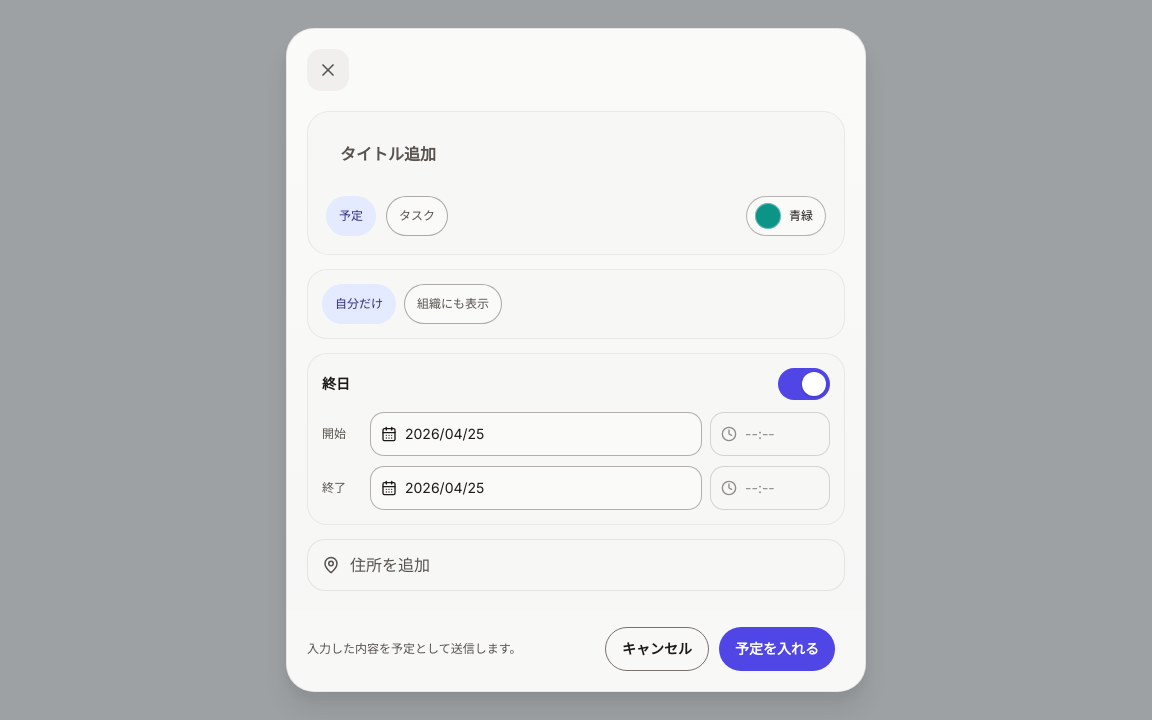
Test case: CalendarScheduleModal › shows contextual chips for the selected time part
Click the switch: {"x": 804, "y": 384} [778,368,830,400]
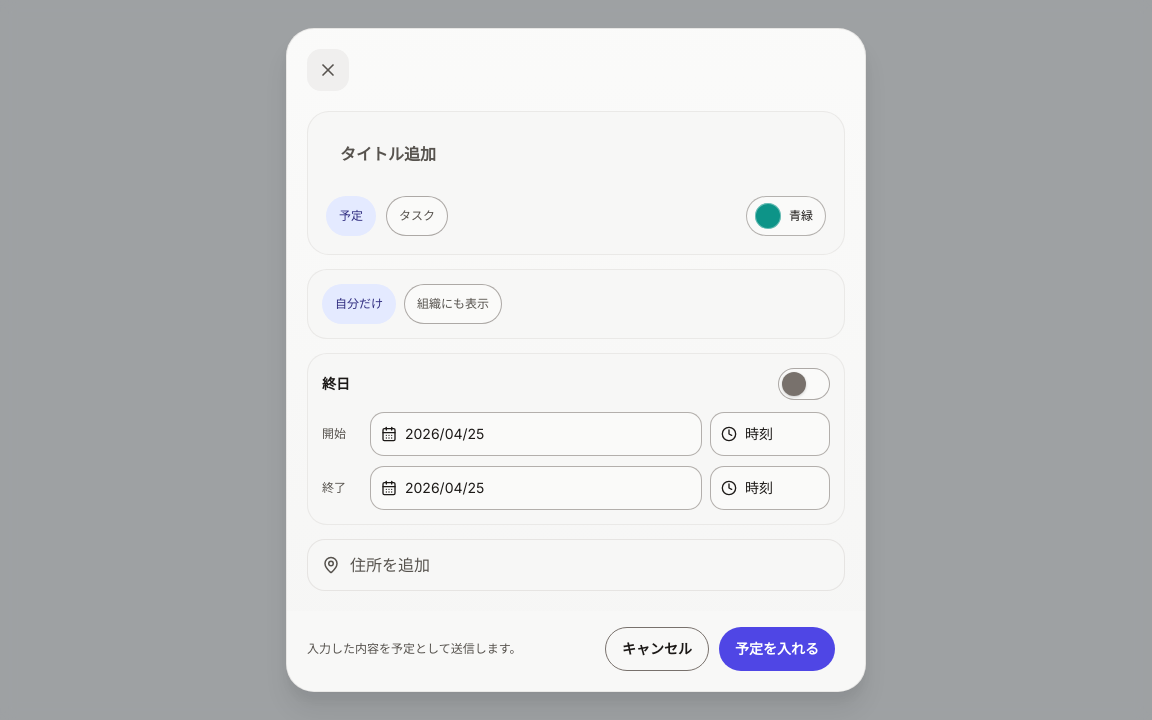
Click the button with aria-label "開始時刻": {"x": 770, "y": 434} [710,412,830,456]
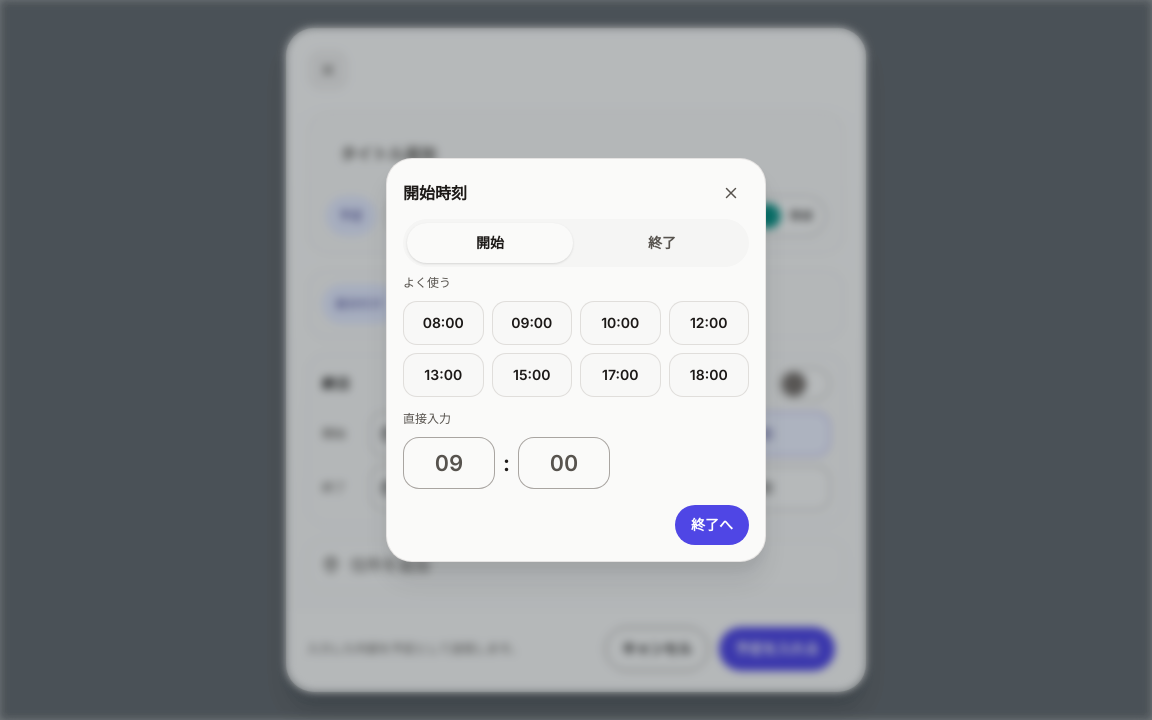
Focus the field named "開始時刻の時": {"x": 449, "y": 463} [403,437,495,489]
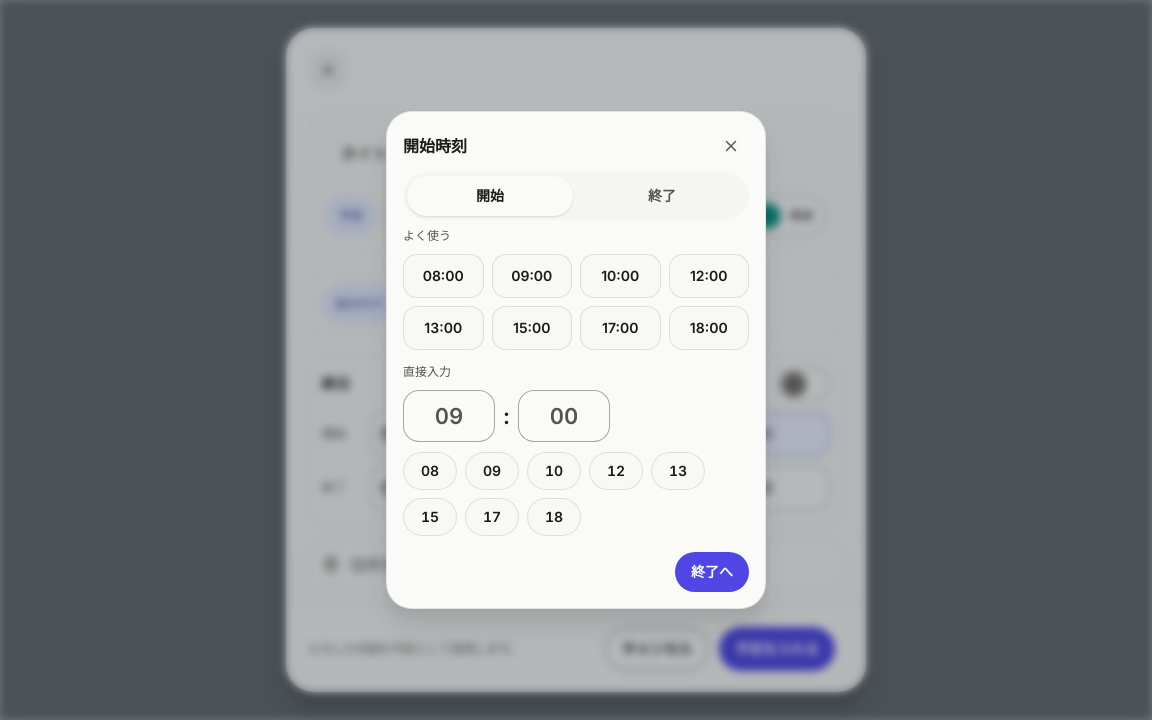
Expected: the button "09" is shown
Click the button "09": {"x": 492, "y": 471} [465,452,519,490]
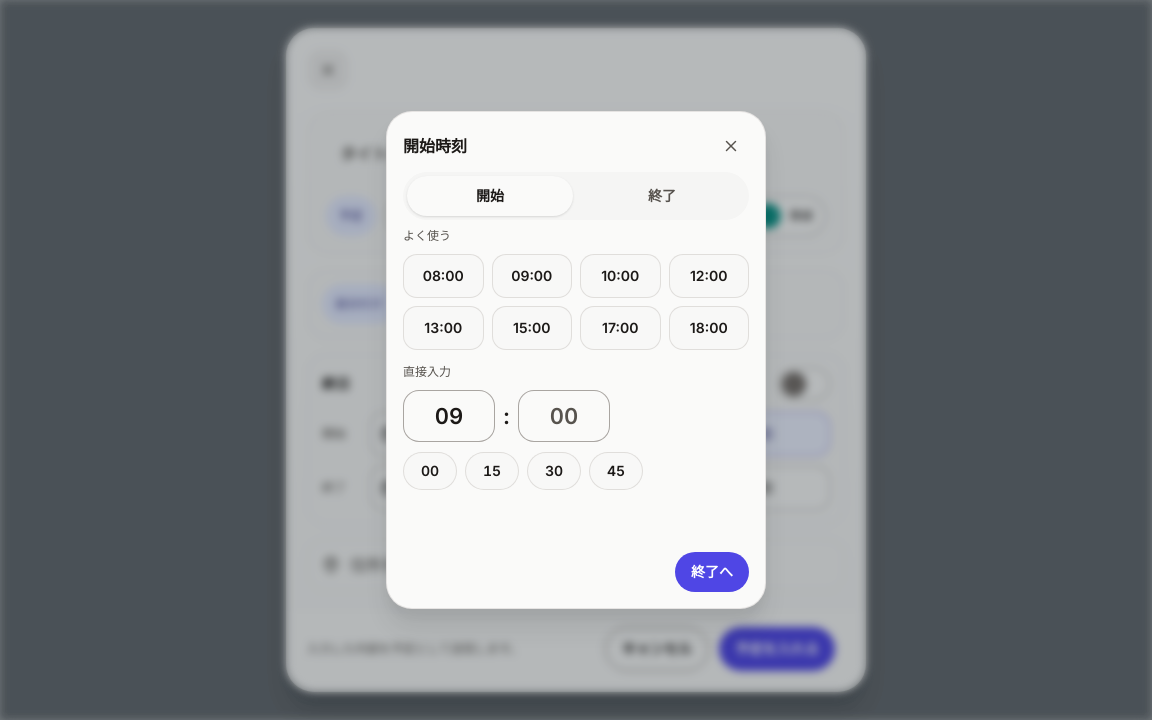
Expected: the button "30" is shown, [527,452,581,490]
Expected: the element "時を選択" is gone
Focus the field named "開始時刻の時": {"x": 449, "y": 416} [403,390,495,442]
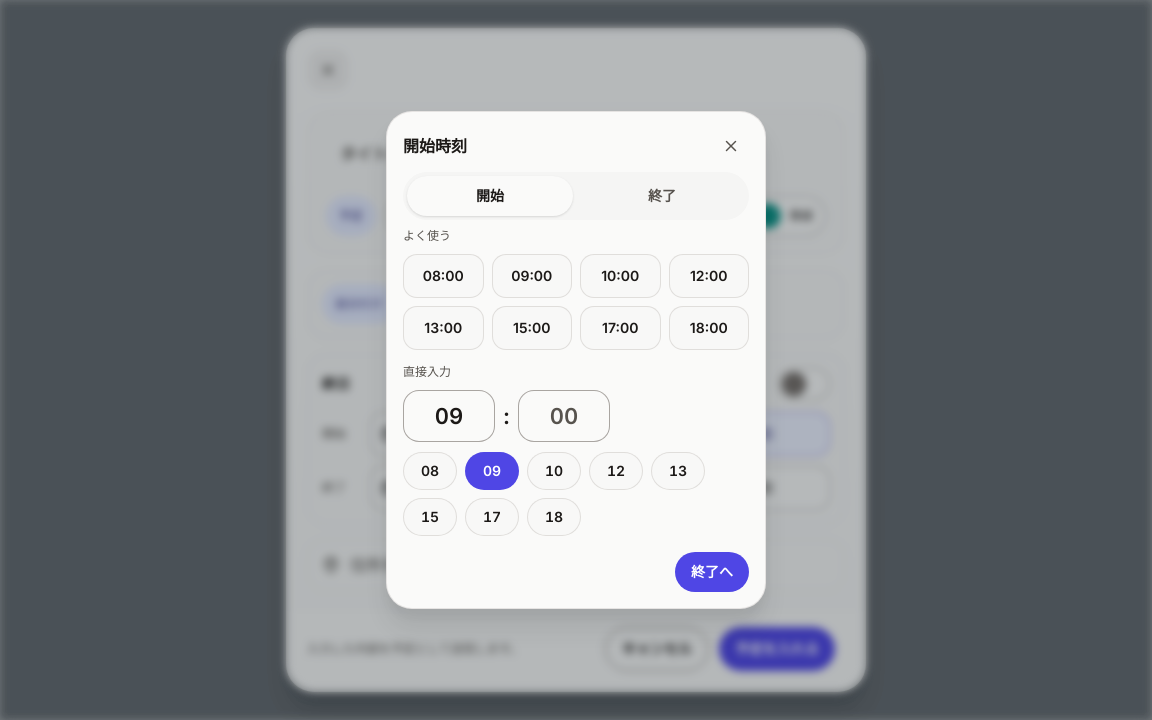
Expected: the element named "時を選択" is shown, [403,452,749,536]
Focus the field named "開始時刻の分": {"x": 564, "y": 416} [518,390,610,442]
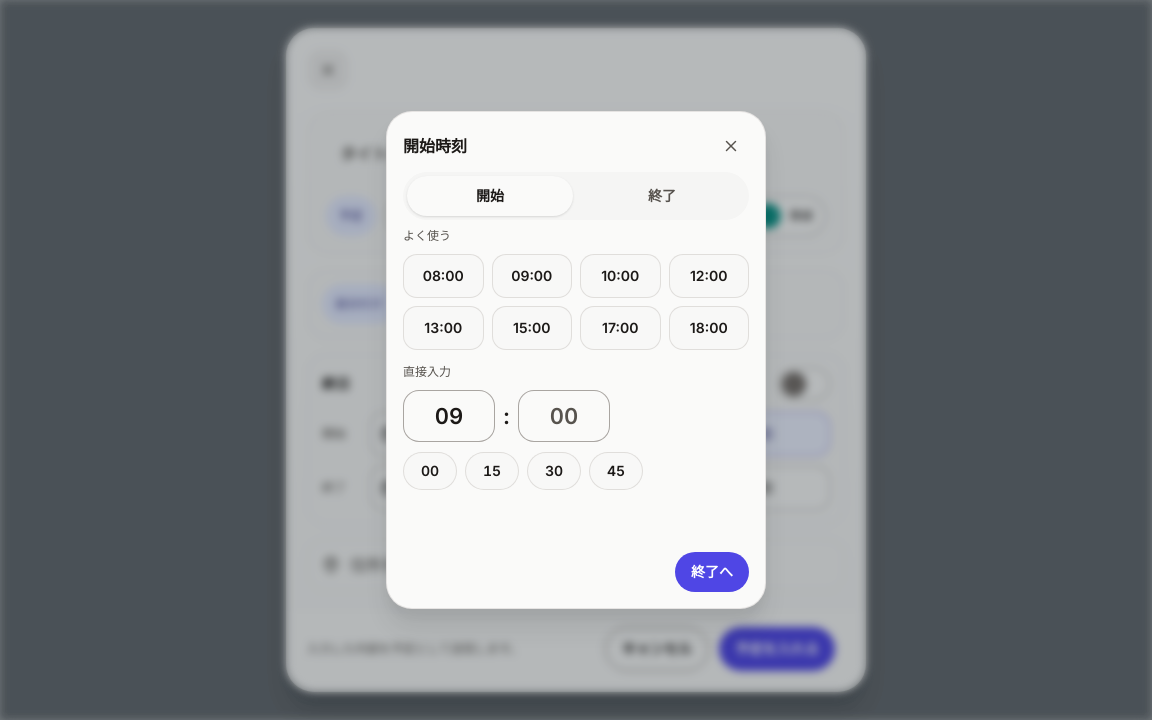
Expected: the button "30" is shown, [527,452,581,490]
Expected: the element "時を選択" is gone
